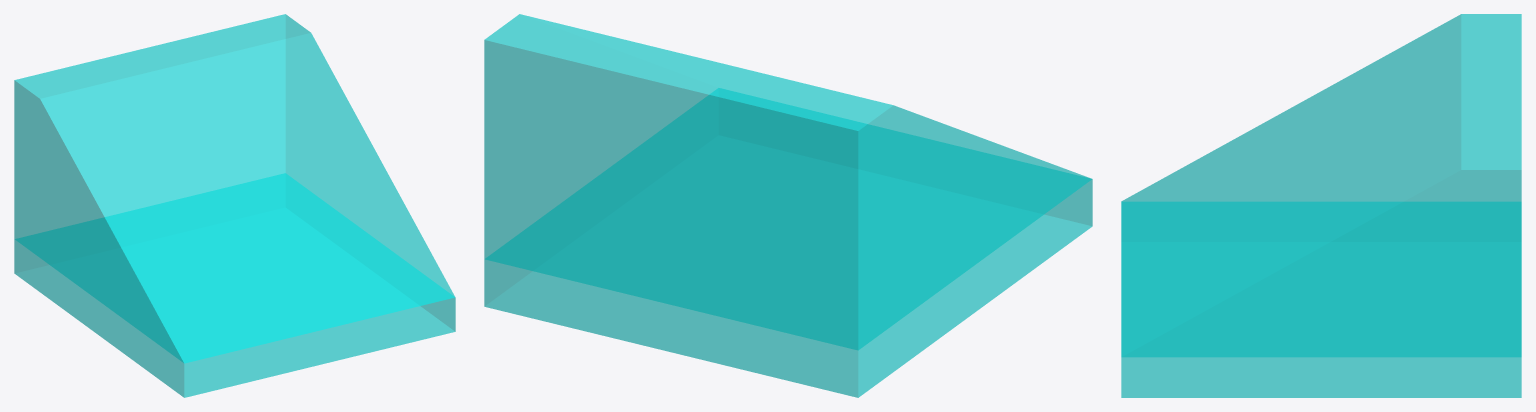
The model's file is SM_Env_Stone_Stairs_03_Collision.fbx.
3 views of the same model, side by side, from view 1: azimuth 30°, elevation 25°; view 2: azimuth 150°, elevation 25°; view 3: azimuth 270°, elevation 25° (orthographic). The views are drawn at different scales.
Parts seen in each view (by area): view 1: SM_Env_Stone_Stairs_03_Collision; view 2: SM_Env_Stone_Stairs_03_Collision; view 3: SM_Env_Stone_Stairs_03_Collision.
Boxes of the visible parts, bbox=[...] form: SM_Env_Stone_Stairs_03_Collision: bbox=[14, 14, 455, 397]; SM_Env_Stone_Stairs_03_Collision: bbox=[484, 14, 1092, 397]; SM_Env_Stone_Stairs_03_Collision: bbox=[1121, 14, 1521, 397].
Size of the model in its own units: 254 by 173 by 275.
